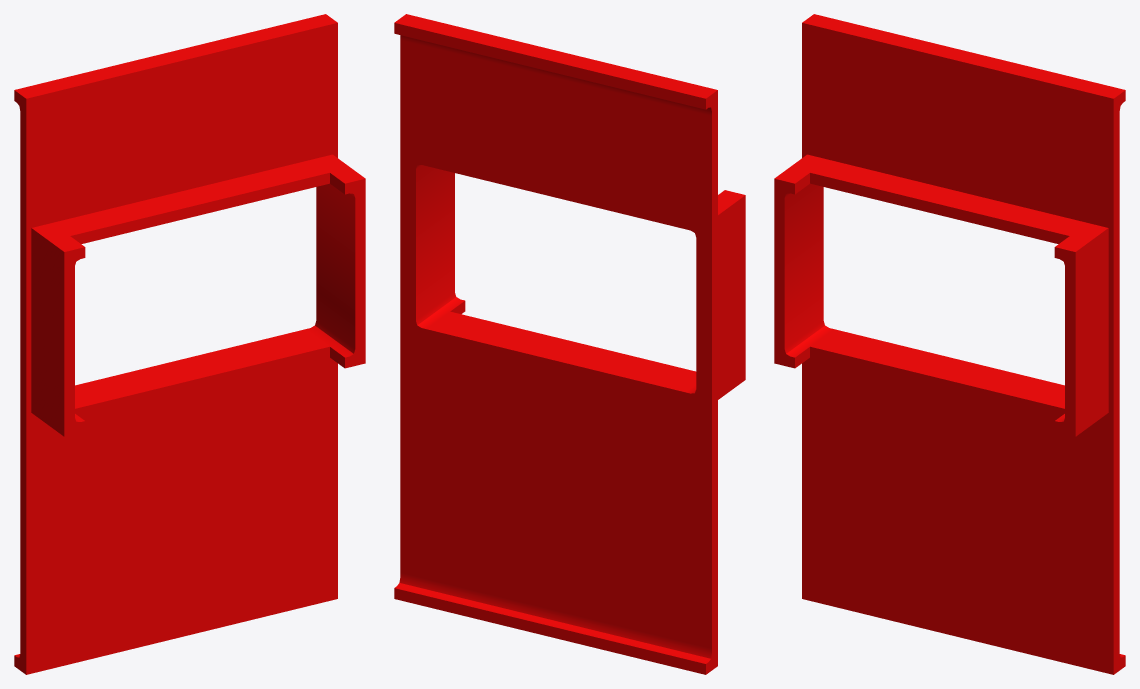
Rendered from SM_Transition-3Mid-4_E.fbx.
3 views of the same model, side by side, from view 1: azimuth 30°, elevation 25°; view 2: azimuth 150°, elevation 25°; view 3: azimuth 330°, elevation 25° (orthographic).
Parts seen in each view (by area): view 1: SM_Transition-3Mid-4_E; view 2: SM_Transition-3Mid-4_E; view 3: SM_Transition-3Mid-4_E.
Part boxes in pixels (x1,y1,x2,y2): SM_Transition-3Mid-4_E: (14,14,365,674); SM_Transition-3Mid-4_E: (394,14,745,674); SM_Transition-3Mid-4_E: (774,14,1125,674).
Bounding box in the file's own units: 600 × 150 × 1060.
